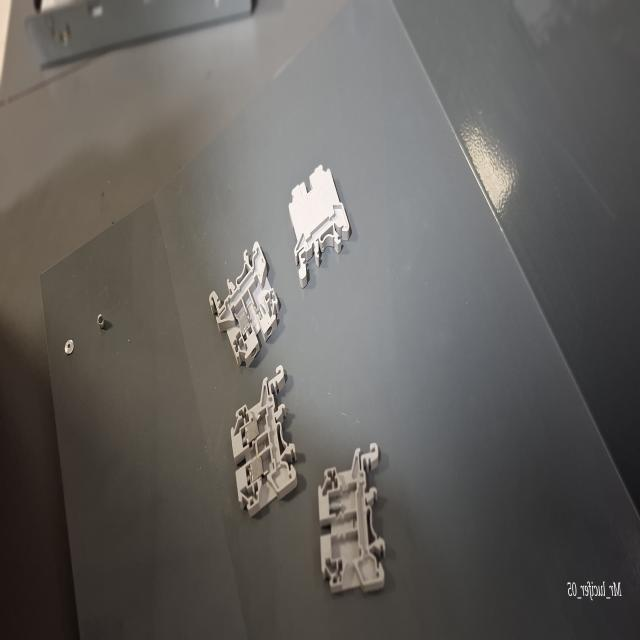Inverted: (288, 157, 352, 295)
Pass: (230, 360, 298, 526)
Reject: (316, 437, 384, 608), (208, 236, 280, 372)
